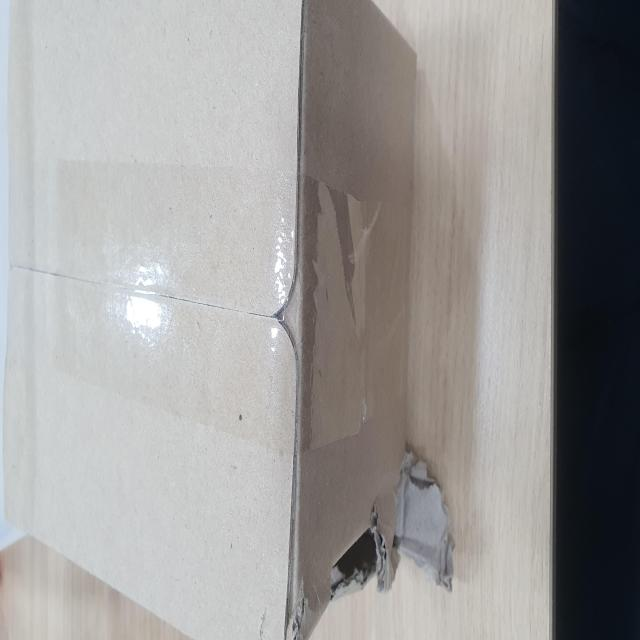damaged: (18, 584, 79, 640)
